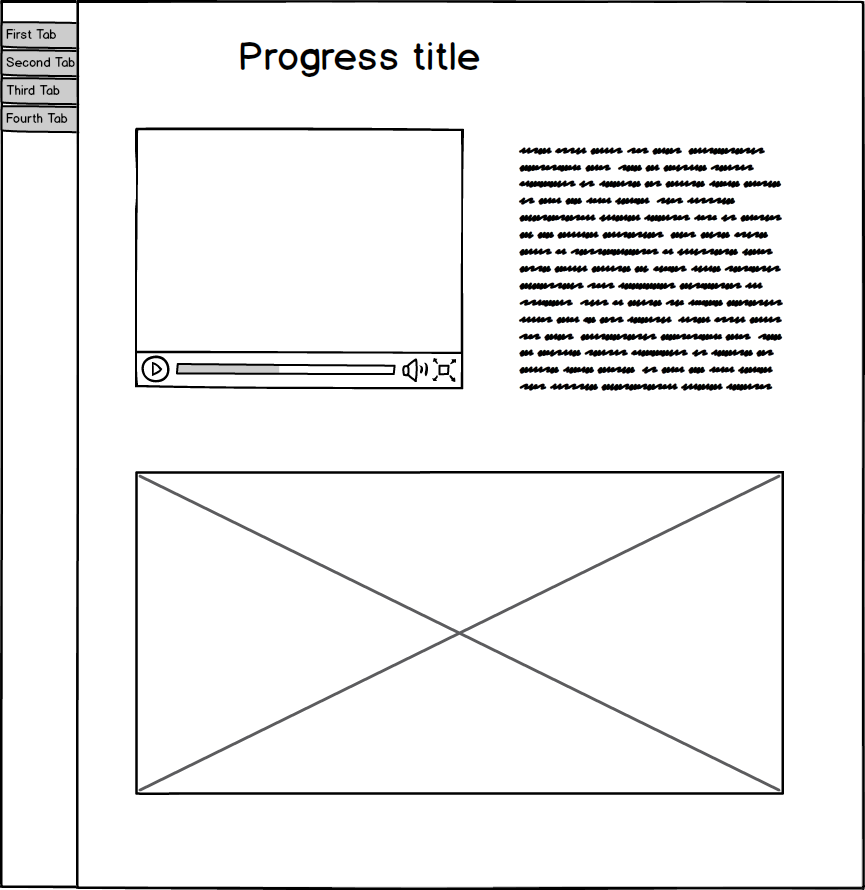h1: (233, 33, 493, 79)
image: (130, 467, 790, 801)
p: (509, 136, 798, 404)
sidebar: (1, 13, 88, 138)
video: (129, 124, 472, 396)
